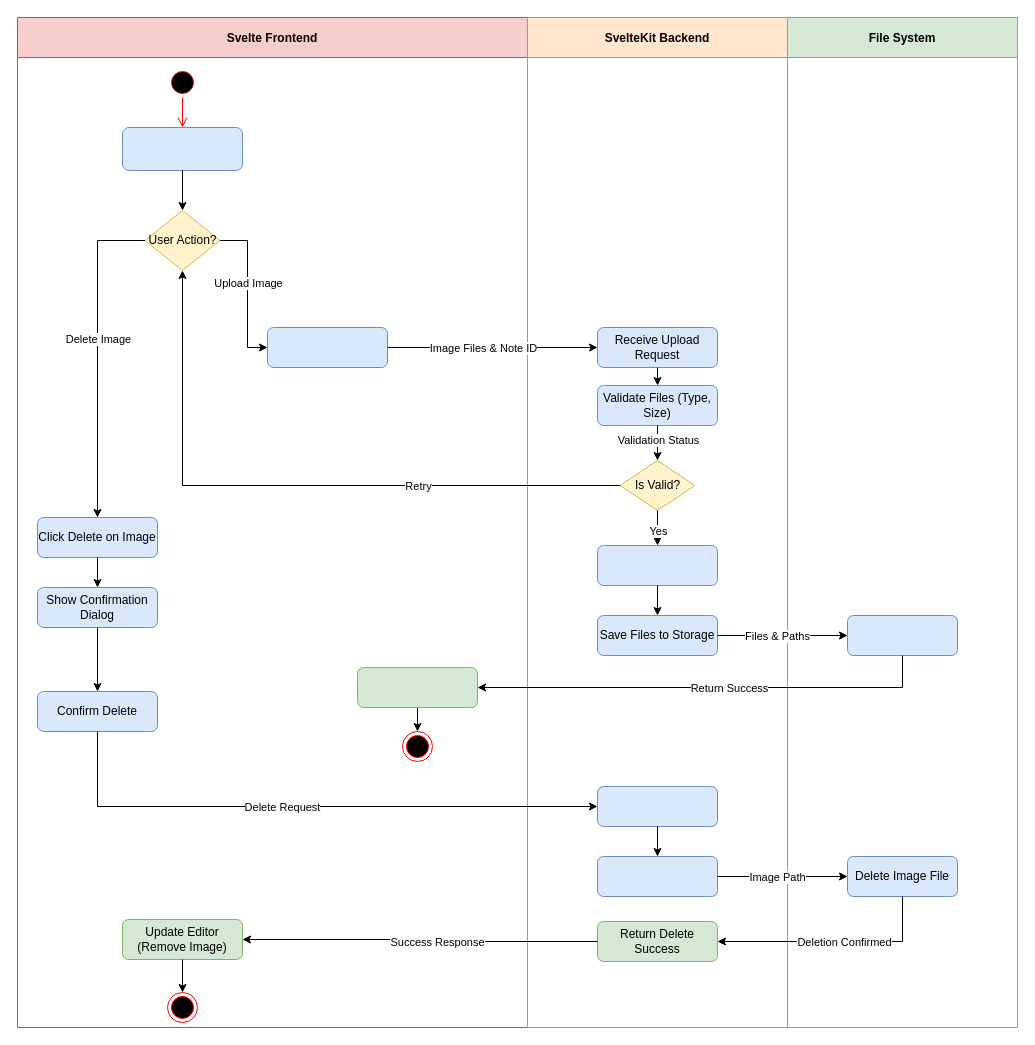
Image size: 1035x1045. Some labels were removed from this diagram. The centre of each missing label's shape, as x and y in pixels:
"Delete File from Storage" belongs at [657,876].
"Display Success" belongs at [417,687].
"Generate Unique Filenames" belongs at [657,565].
"Open Note Editor" belongs at [182,148].
"Receive Delete Request" belongs at [657,806].
"Save Image Files" belongs at [902,635].
"Select & Upload Image Files" belongs at [327,347].
